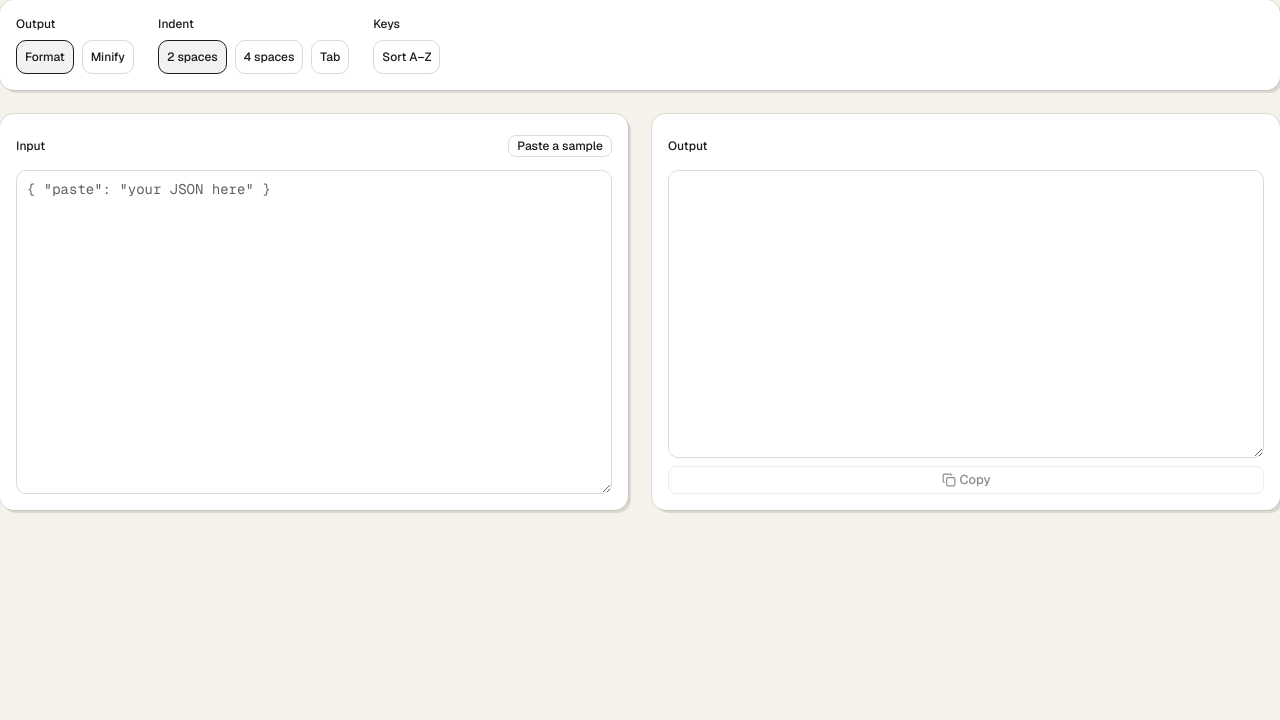
Test case: JsonFormatterTool › summarises the shape of a valid document
Clear the text box named "JSON input". click: [314, 332]
box: top-left (16, 170), bottom-right (612, 494)
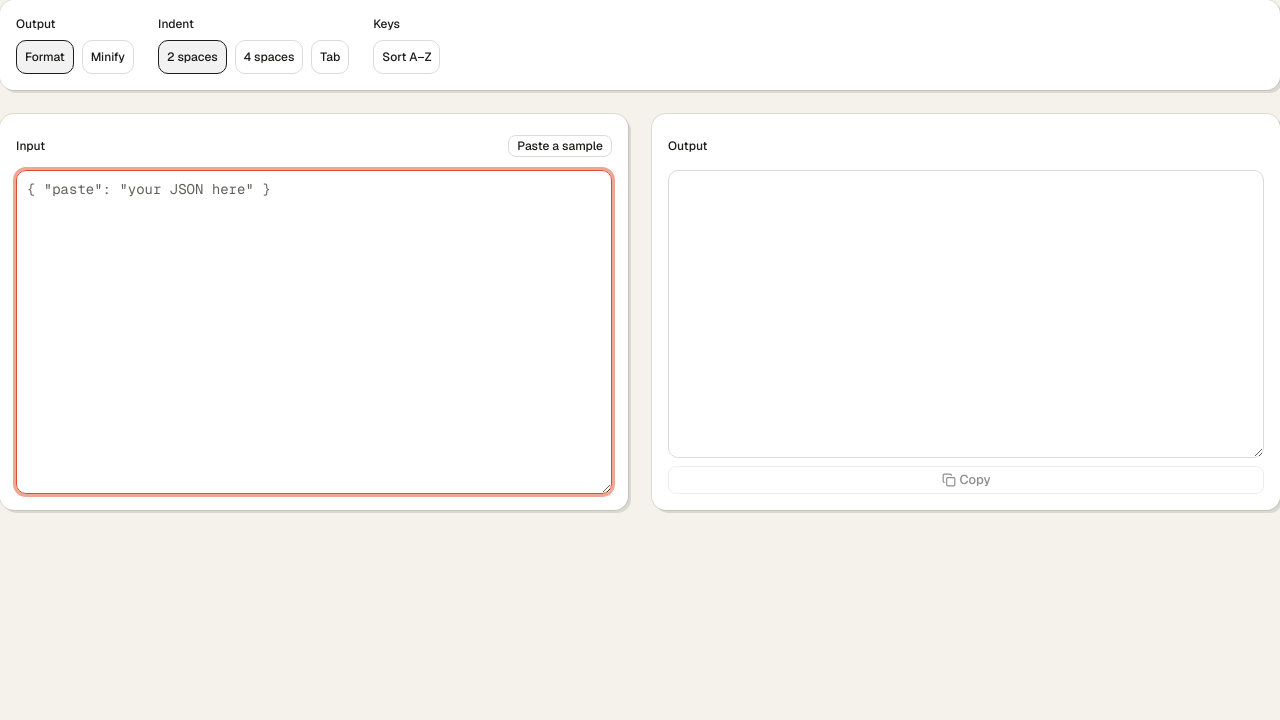
Type keys "{\"a\":{\"b\":[1,2]}}"
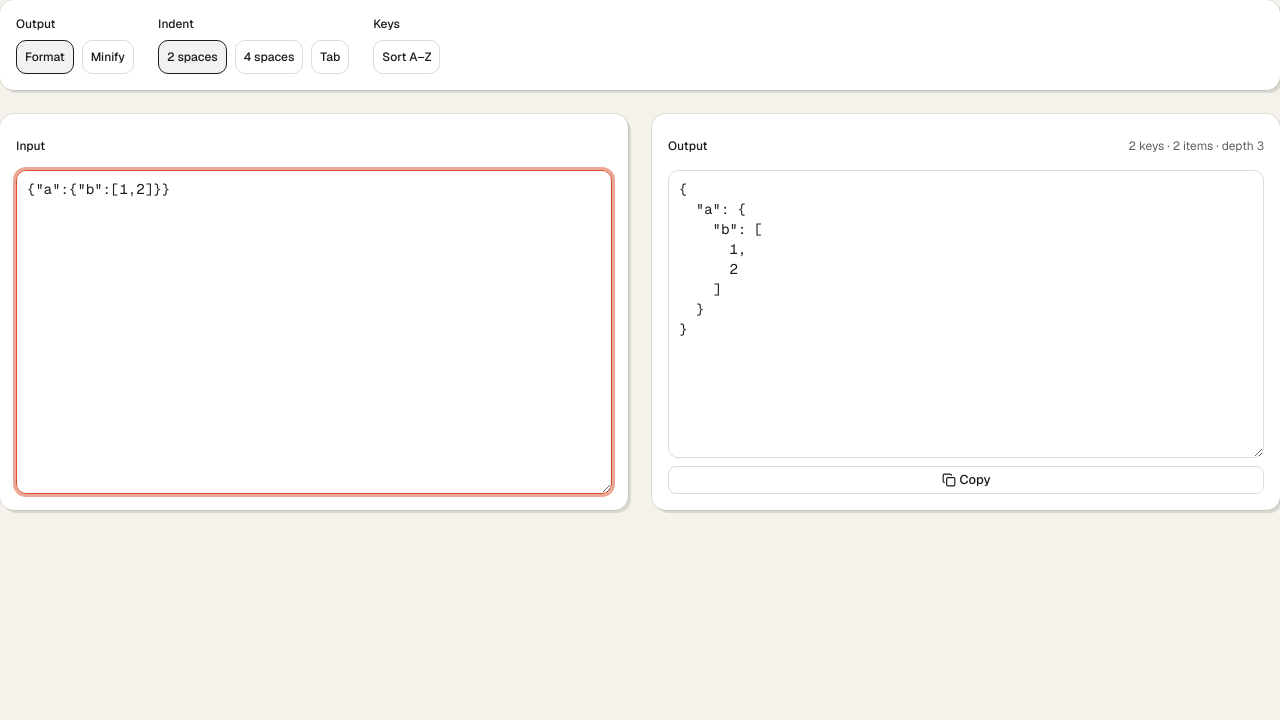
Result: the text "2 keys · 2 items · depth 3" is shown at top-left (1128, 138), bottom-right (1264, 154)
